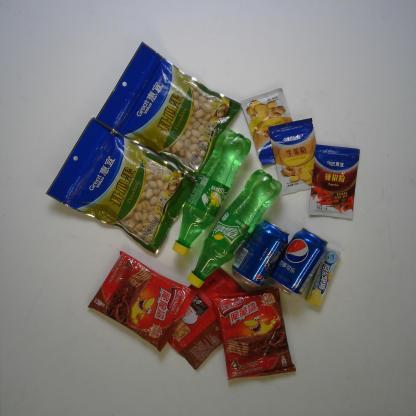Candy: (305, 245, 342, 309)
Dessert: (83, 250, 198, 353), (167, 264, 250, 372), (209, 286, 298, 381)
Dried Fruit: (41, 115, 198, 257), (93, 40, 246, 174)
Drink: (185, 167, 283, 294), (169, 126, 252, 262), (228, 219, 290, 296), (266, 226, 328, 301)
Seasoner: (240, 87, 299, 169), (306, 142, 362, 223), (268, 116, 322, 198)
